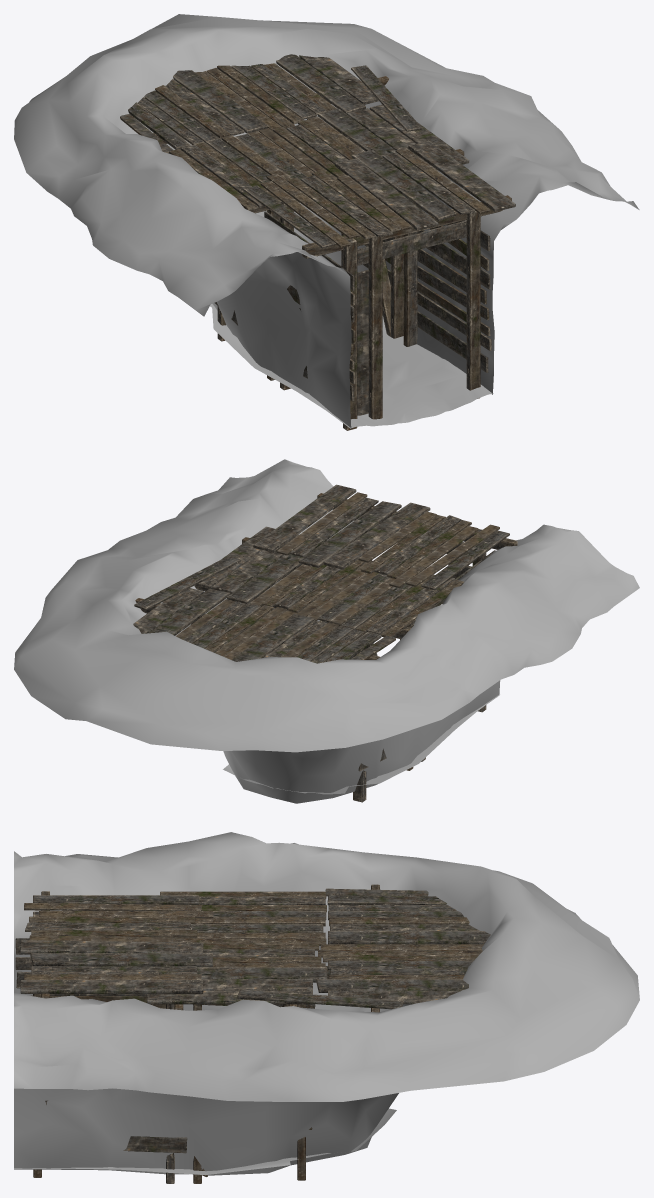
File: Ground_End_Wood_Cover.fbx
3 views of the same model, one above another, from view 1: azimuth 30°, elevation 25°; view 2: azimuth 150°, elevation 25°; view 3: azimuth 270°, elevation 25° (orthographic). The views are drawn at different scales.
Visible parts, largest first — view 1: Ground_End_Wood_Cover_LOD0; view 2: Ground_End_Wood_Cover_LOD0; view 3: Ground_End_Wood_Cover_LOD0.
Boxes of the visible parts, x1,y1,x2,y2 form: Ground_End_Wood_Cover_LOD0: [14, 14, 639, 430]; Ground_End_Wood_Cover_LOD0: [14, 459, 639, 803]; Ground_End_Wood_Cover_LOD0: [14, 832, 639, 1183].
Size of what is drawn, in the model's own units: 660 by 297 by 716.
